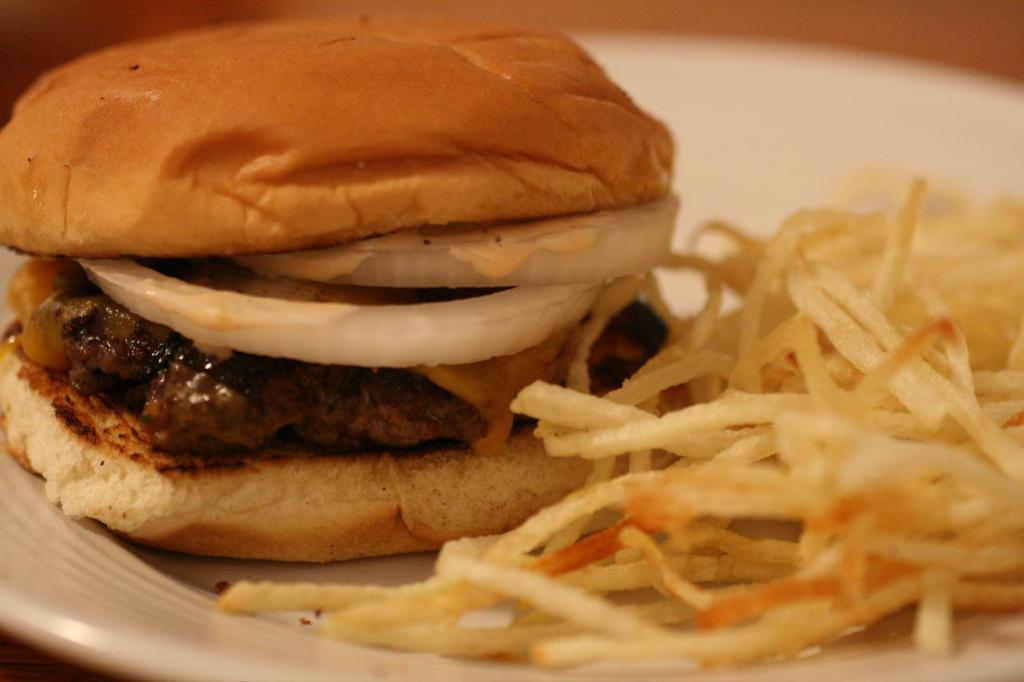French fries: (80, 81, 918, 645)
